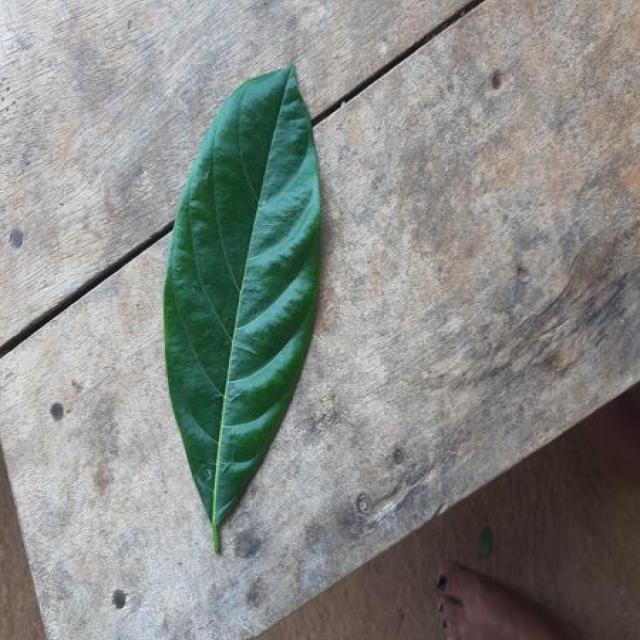Jackfruit: (163, 65, 318, 552)
